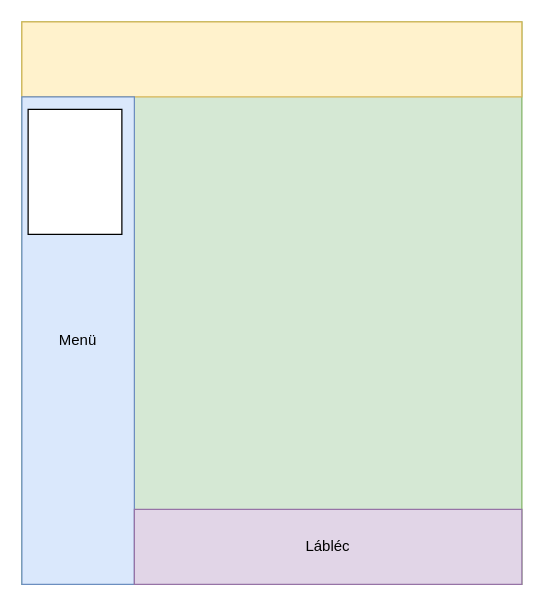
The diagram is 544 pixels wide and 606 high, and some of its shapes have lost their labels. The shapes that lost their labels are listed below. From the top down, each one's centre as x and y in pixels, then its label:
At (271,59): "Fejléc".
At (74,171): "asd asd asd".
